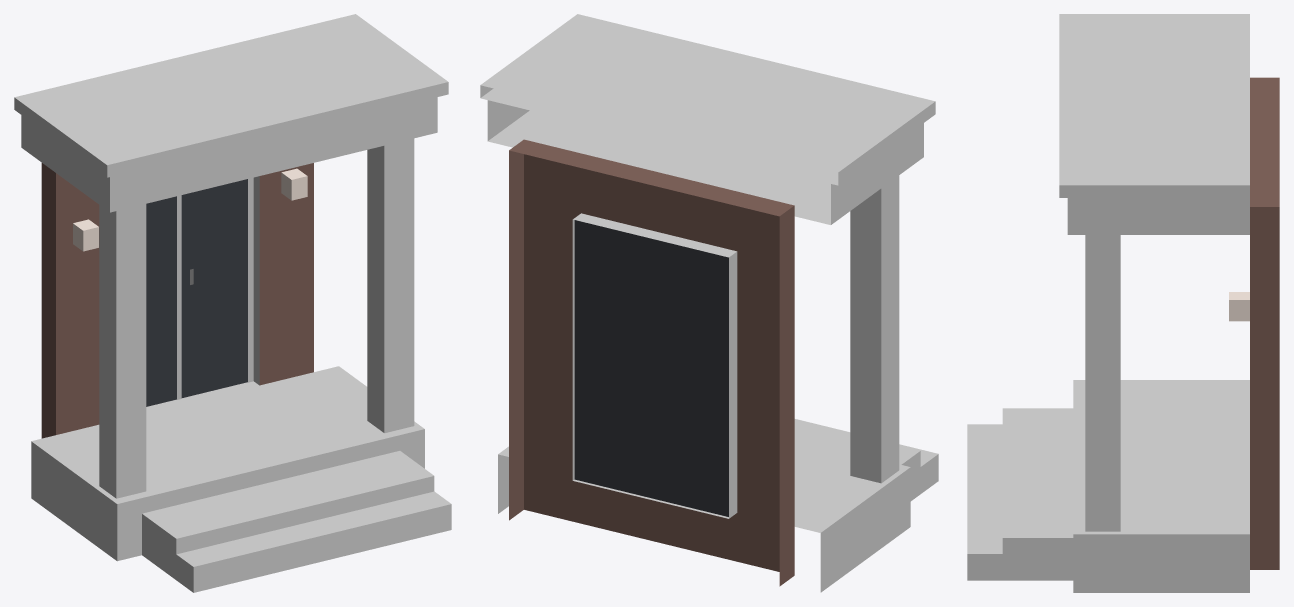
File: entrance.fbx
3 views of the same model, side by side, from view 1: azimuth 30°, elevation 25°; view 2: azimuth 150°, elevation 25°; view 3: azimuth 270°, elevation 25° (orthographic). The views are drawn at different scales.
Parts seen in each view (by area): view 1: a2000s3/600/entrance; view 2: a2000s3/600/entrance; view 3: a2000s3/600/entrance.
Boxes of the visible parts, <box> form: a2000s3/600/entrance: <box>14,14,451,592</box>; a2000s3/600/entrance: <box>480,14,938,592</box>; a2000s3/600/entrance: <box>967,14,1279,592</box>.
Size of the model in its own units: 3.44 by 3.9 by 2.65.
